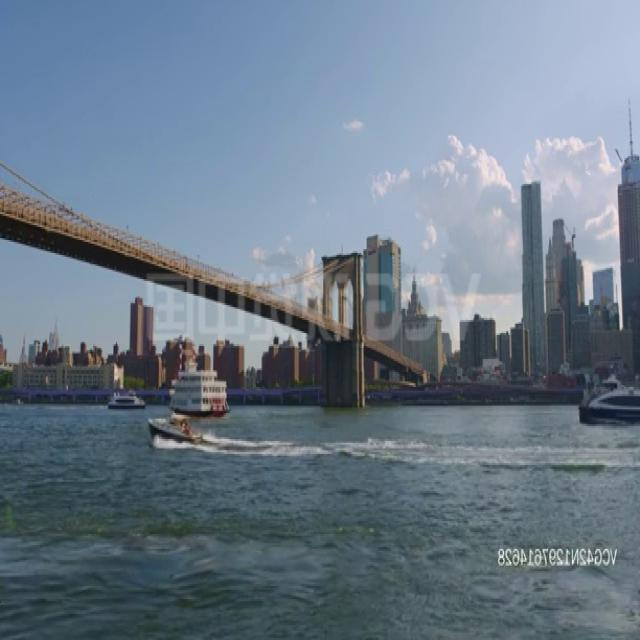houseboat: (150, 413, 202, 443)
passenger ship: (577, 370, 640, 426), (172, 368, 228, 414), (108, 381, 146, 409)
